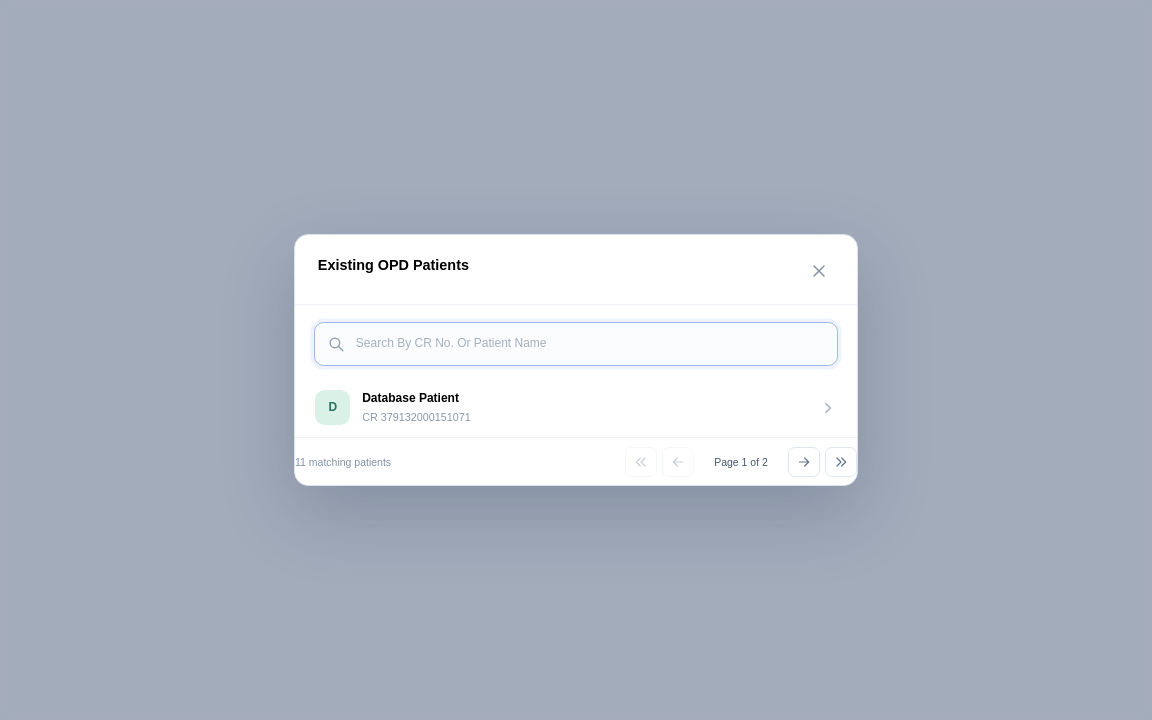
Scenario: typing retains result rows and pagination until debounced search finishes
In the field with placeholder "Search By CR No. Or Patient Name": (590,344) [356, 337, 825, 351], type "Nobody"
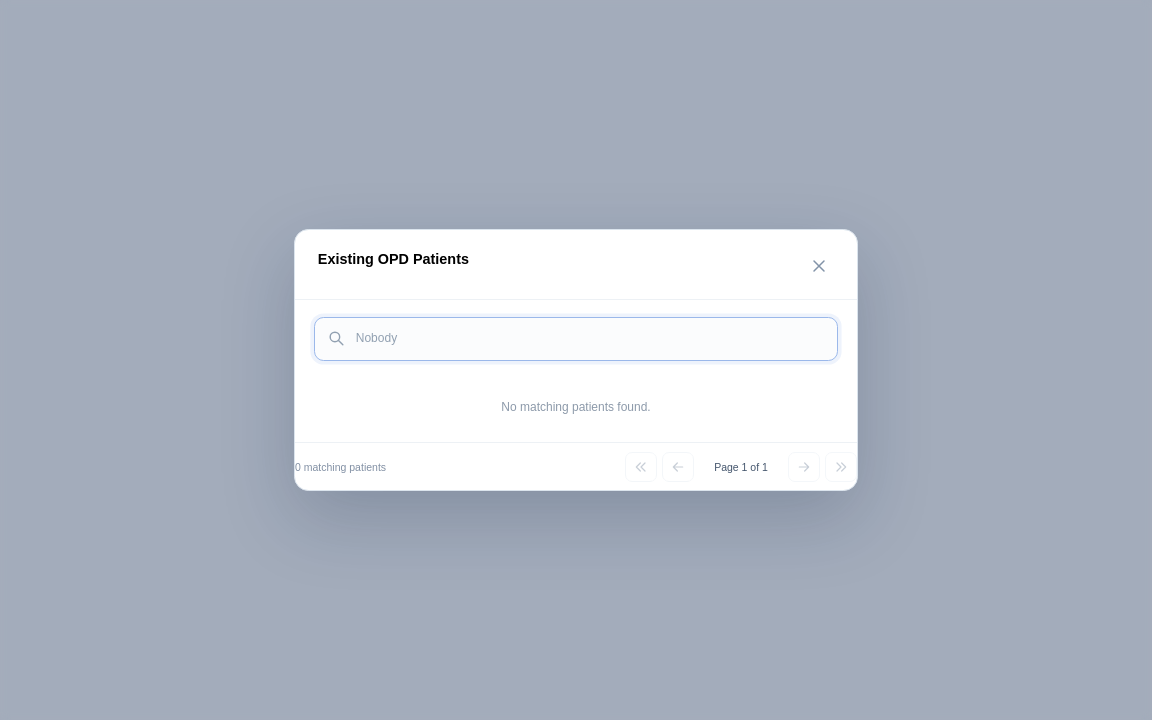
expect the button named "Next page" is shown: met, box [788, 452, 820, 482]
expect the text "No matching patients found." is shown: met, box [501, 400, 651, 414]
expect the text "0 matching patients" is shown: met, box [295, 461, 386, 473]
